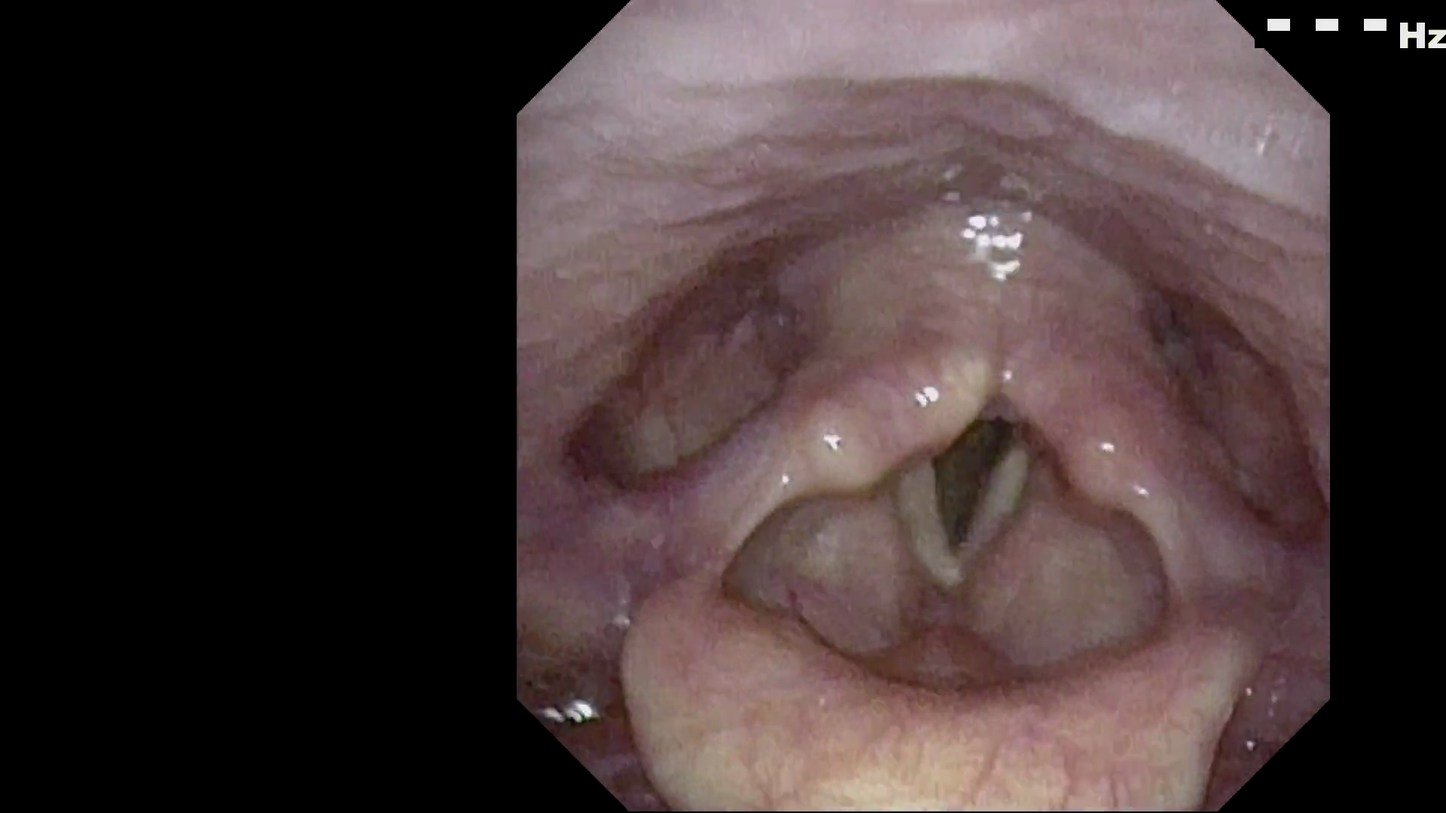epiglottis: (600, 524, 1238, 768)
trachea: (876, 378, 1055, 603)
